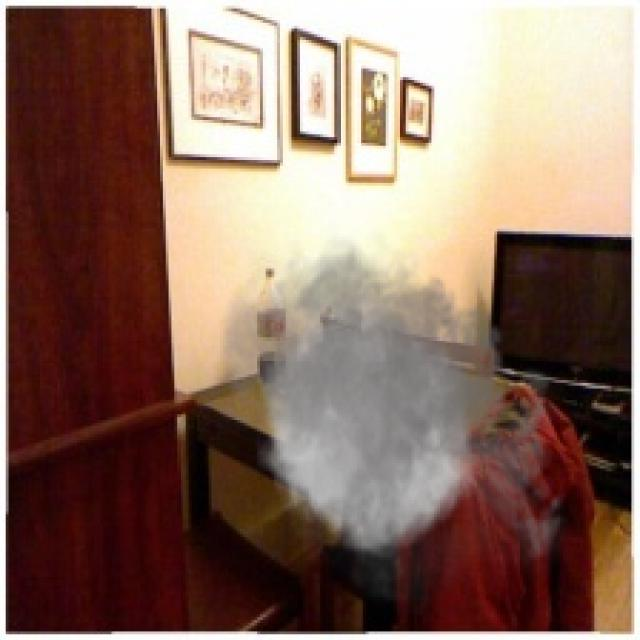smoke: (206, 223, 574, 626)
